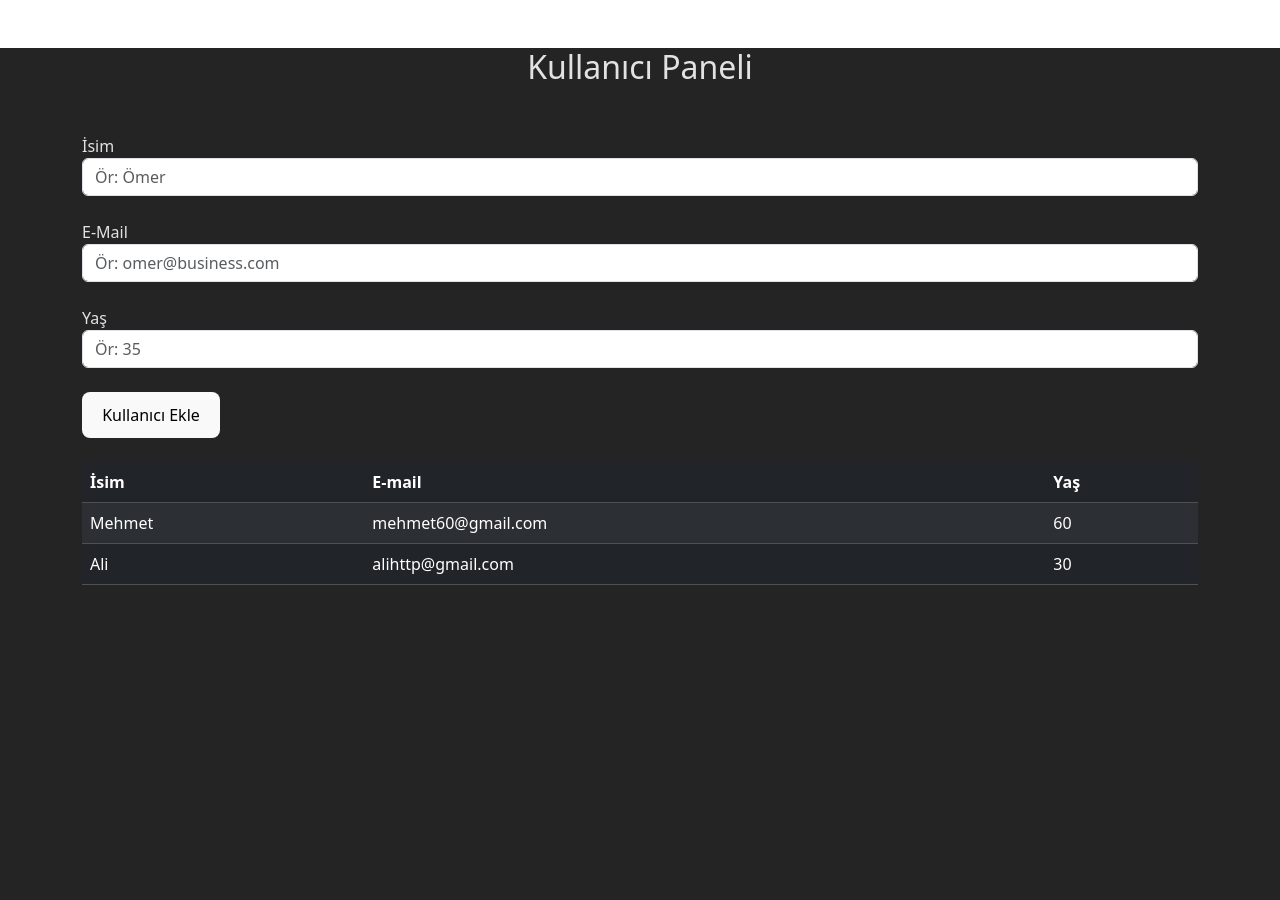
Uygulama doğru şekilde çalışyor mu?
Type "Veli" into the field labelled "İsim".
click(640, 177); type("Veli")  # box [82,158,1198,196]
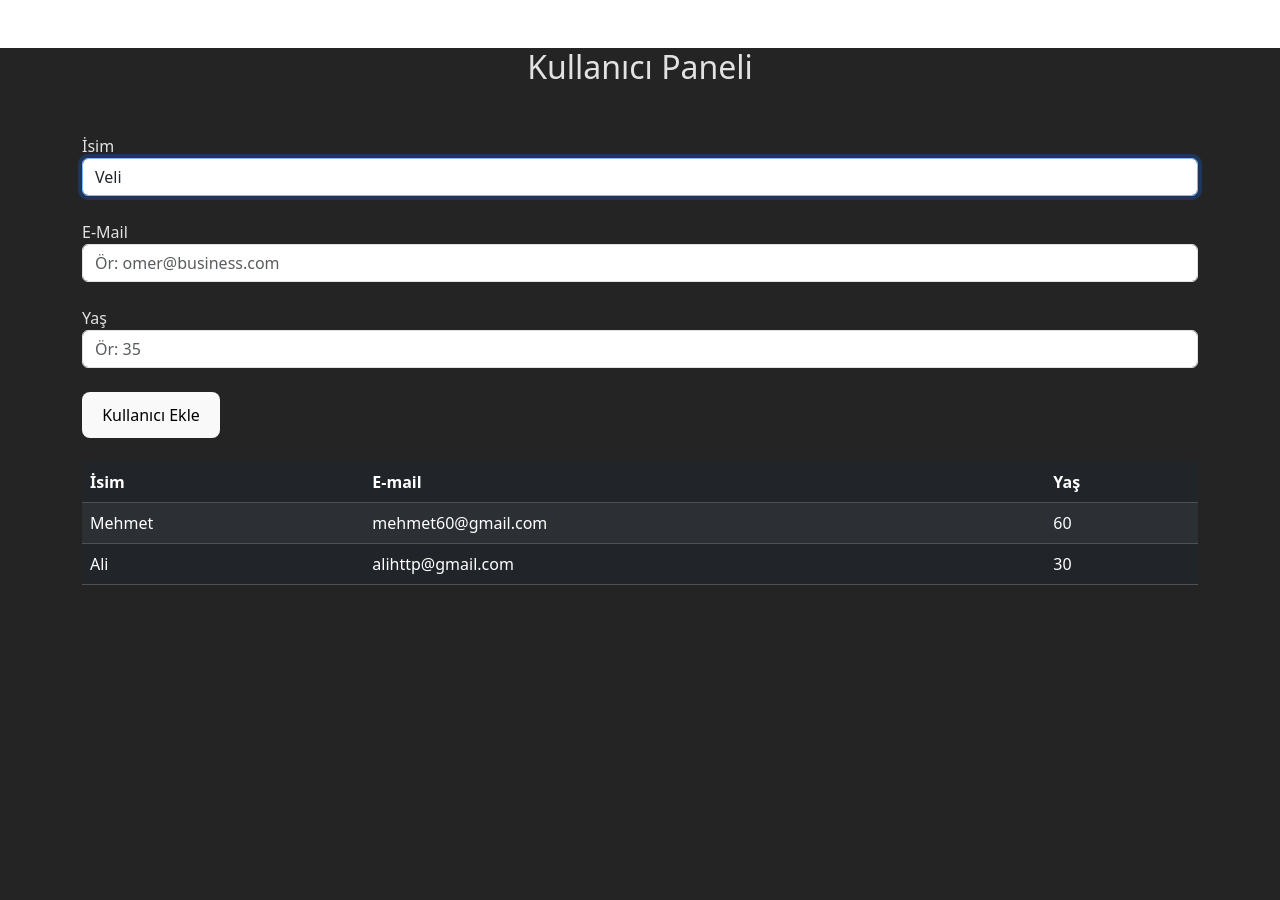
Type "veli@gmail.com" into the field labelled "E-Mail".
click(640, 263); type("veli@gmail.com")  # box [82,244,1198,282]
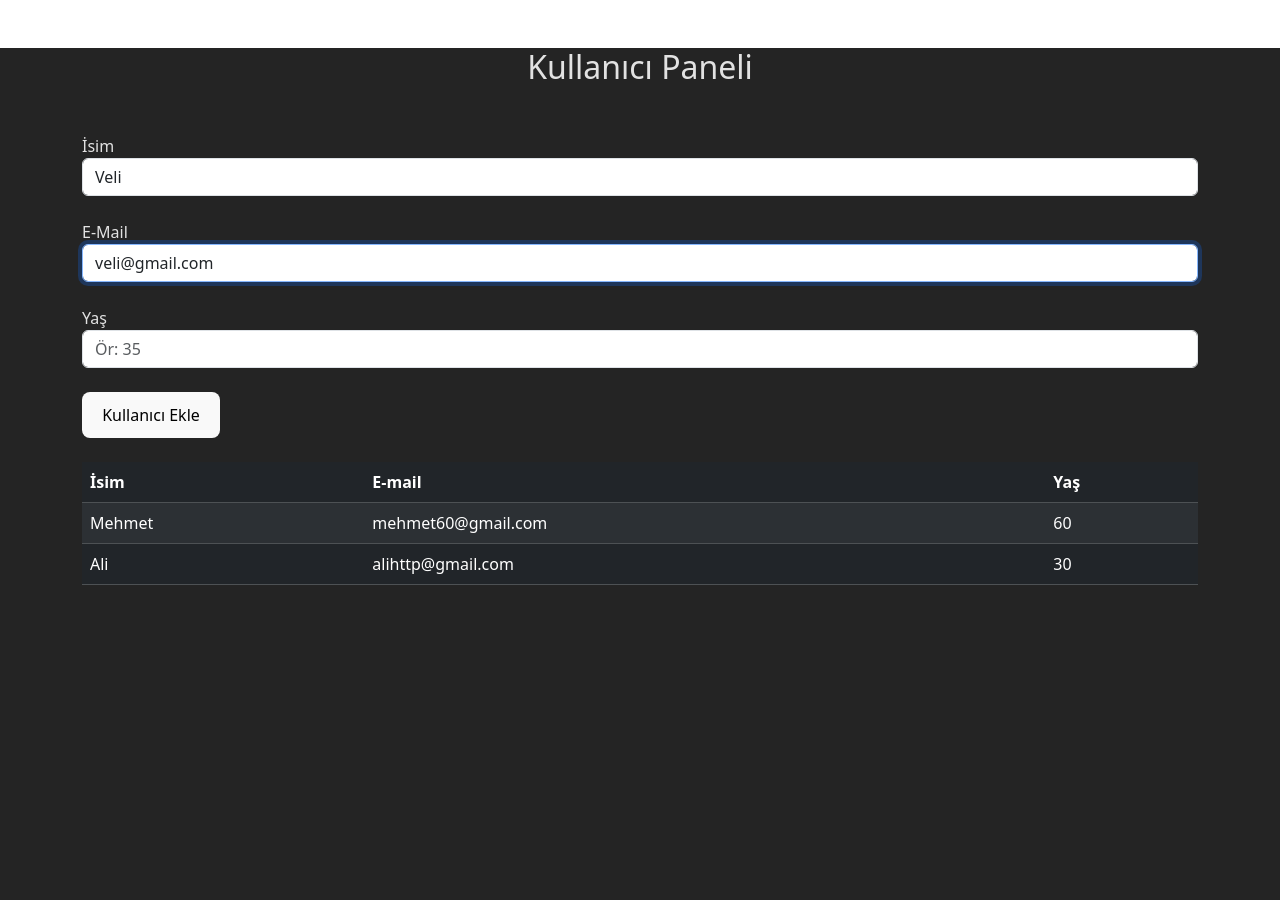
Type "32" into the number field labelled "Yaş".
click(640, 349); type("32")  # box [82,330,1198,368]
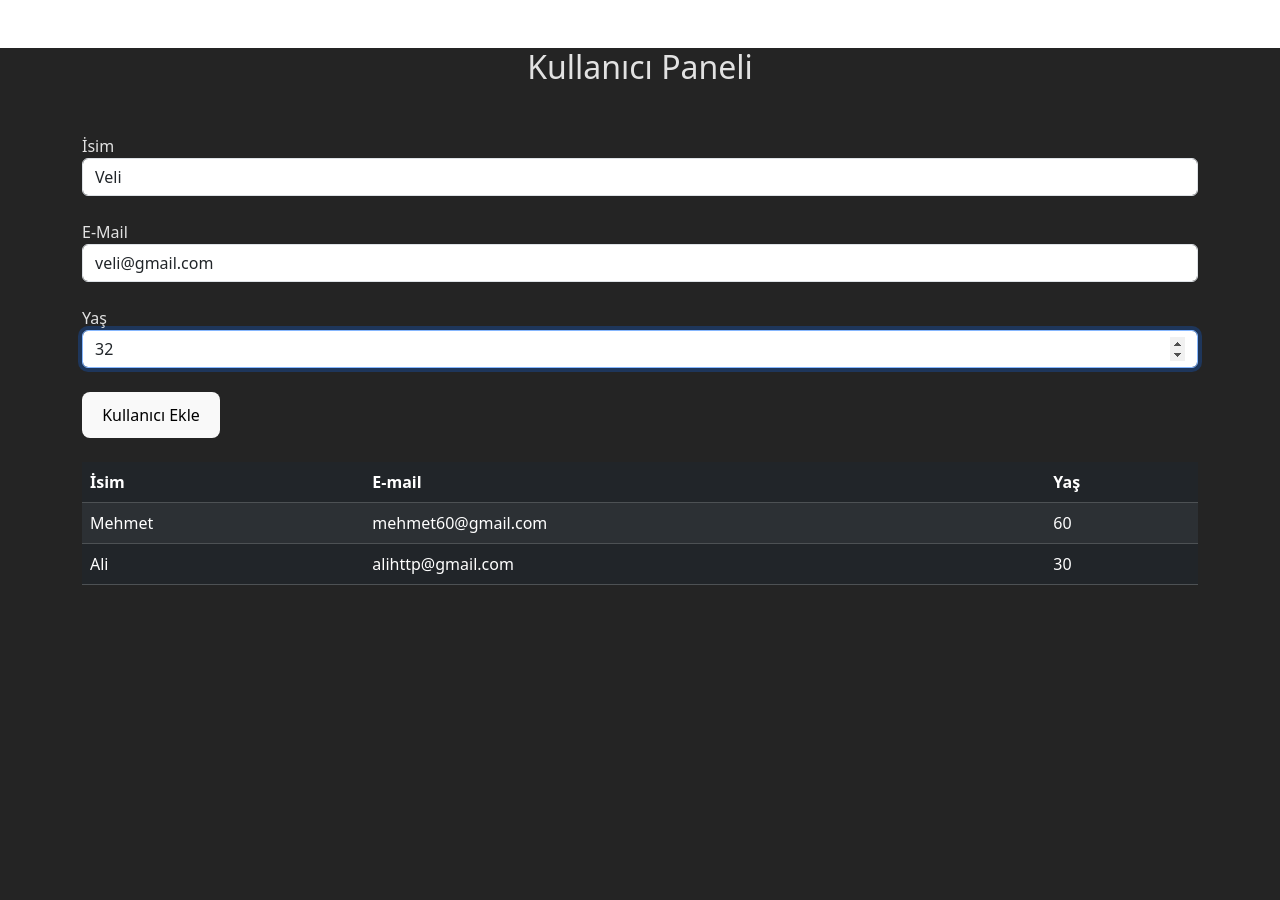
Click the button "Kullanıcı Ekle".
click(151, 415)  # box [82,392,220,438]
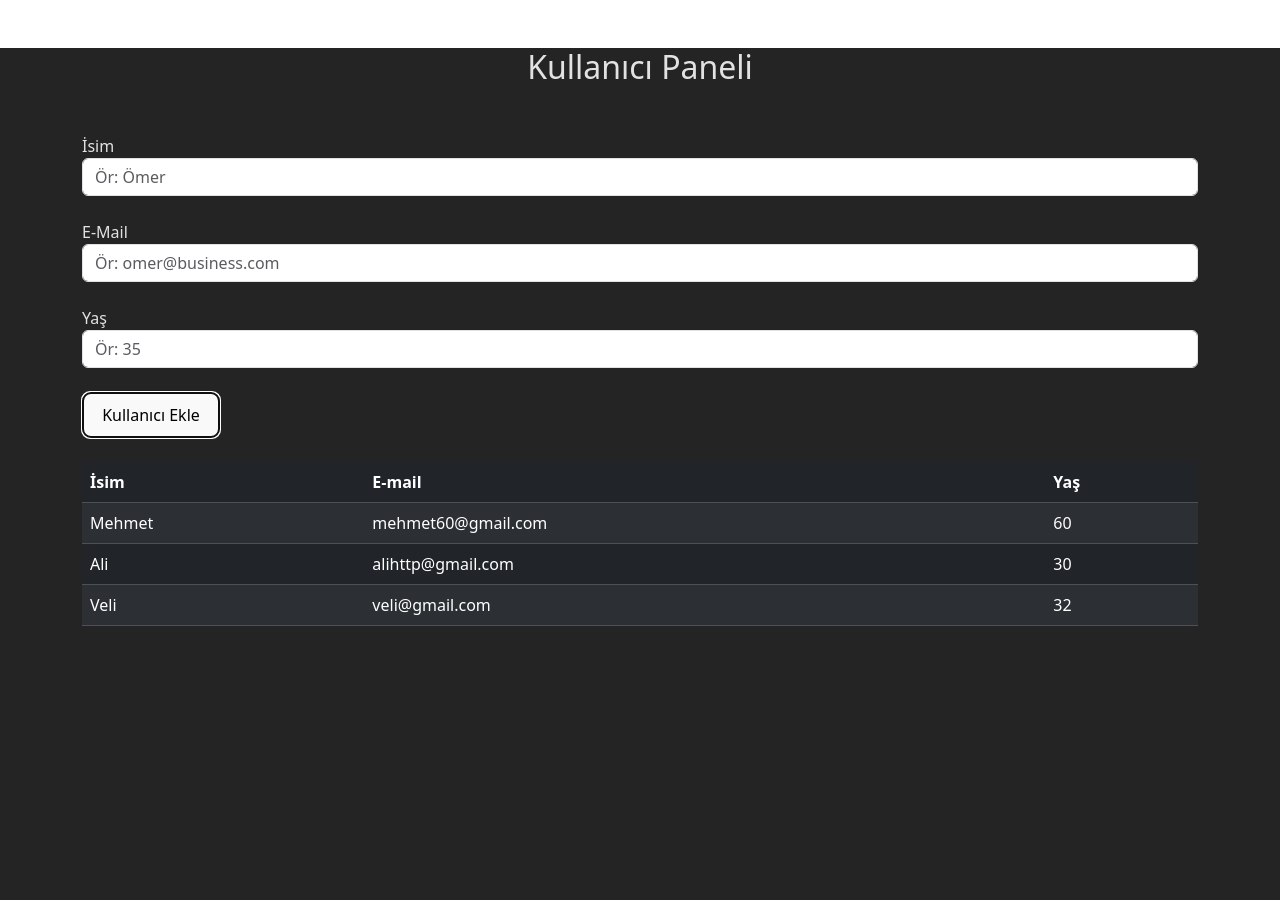
Now the cell "Veli" is shown, box [82,584,364,625]
Now the cell "veli@gmail.com" is shown, box [364,584,1045,625]
Now the cell "32" is shown, box [1045,584,1198,625]
